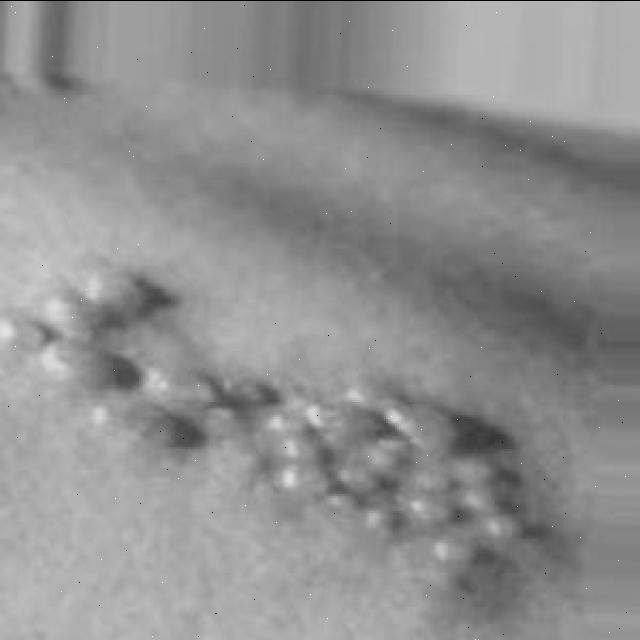Shingles: (0, 272, 520, 567)
